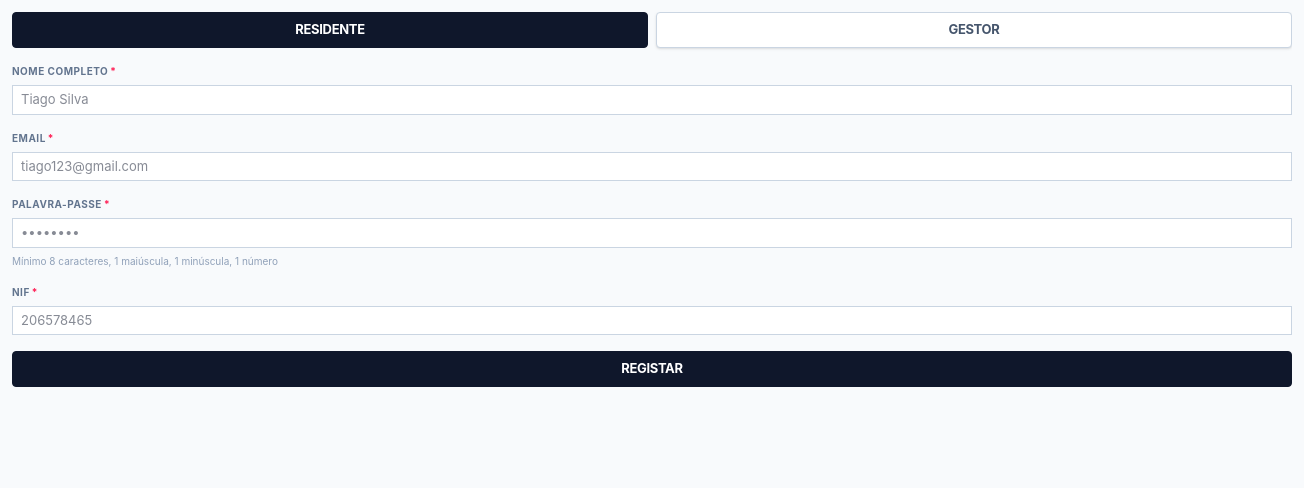
RegisterForm › validates form inputs
Note: Submit empty form
Click the button "Registar". click: {"x": 652, "y": 369}
box: [12,351,1292,387]
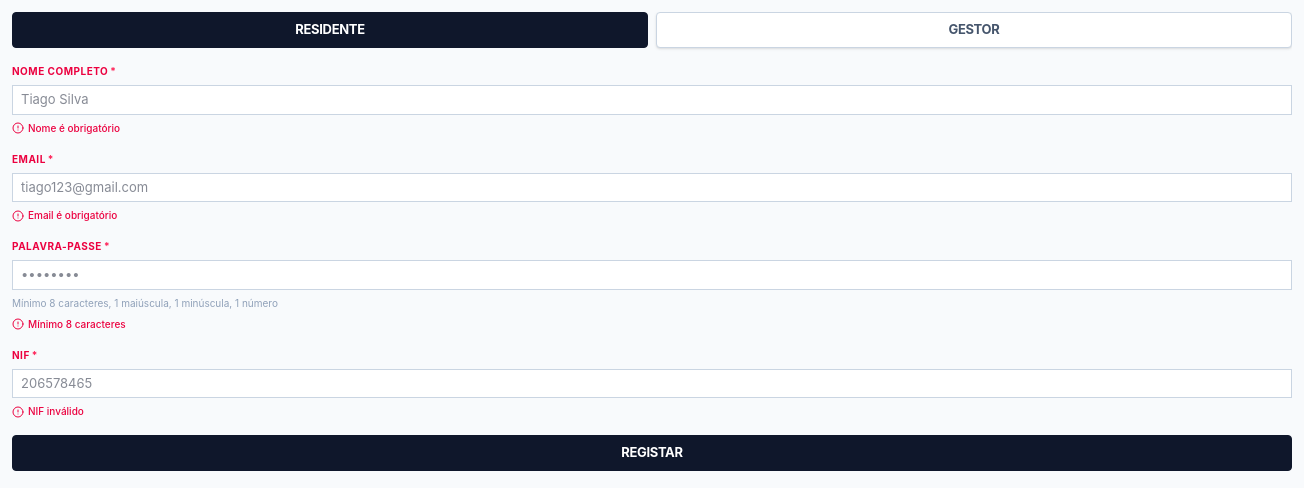
Expected: the text "Nome é obrigatório" is shown, [12,122,120,134]
Expected: the text "Email é obrigatório" is shown, [12,209,117,222]
